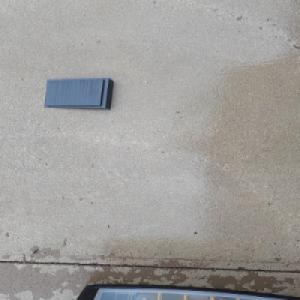PlasticPart: (43, 78, 116, 110)
